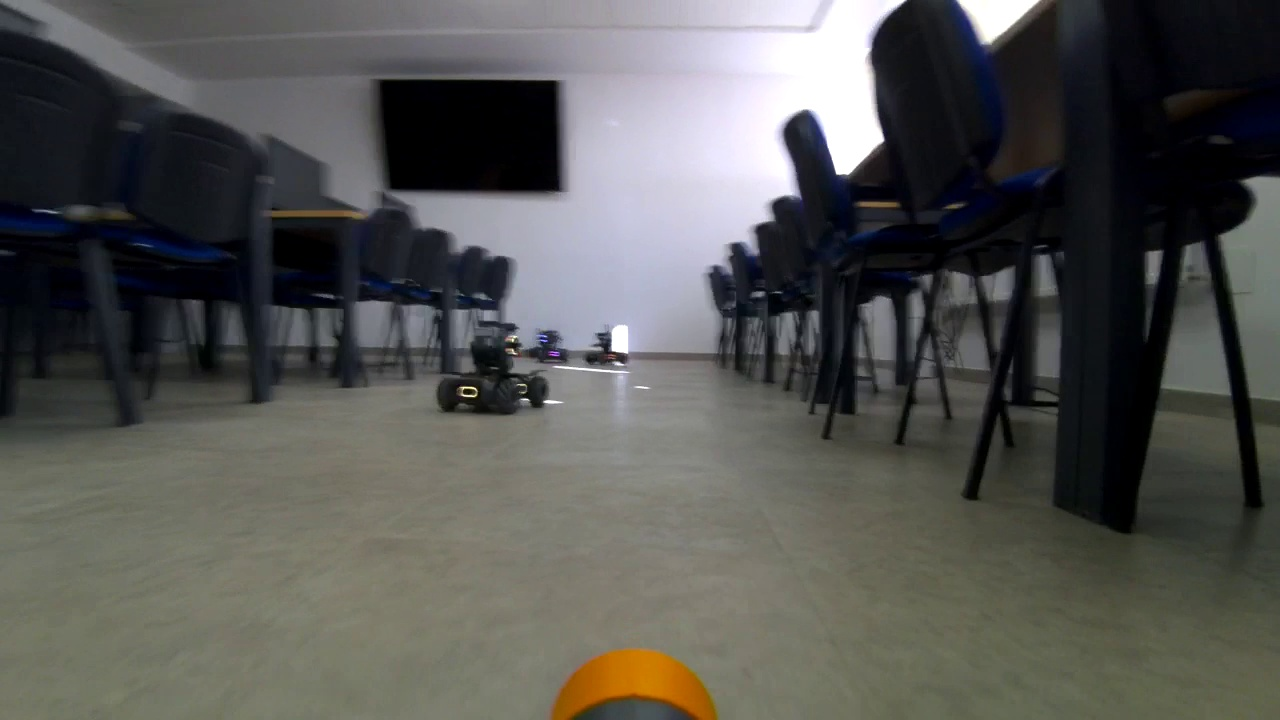robot: (439, 322, 550, 413), (582, 326, 635, 371), (527, 322, 569, 367)
